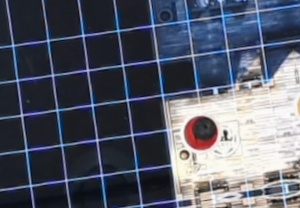red: (171, 105, 228, 159)
yellow: (286, 89, 300, 125)
